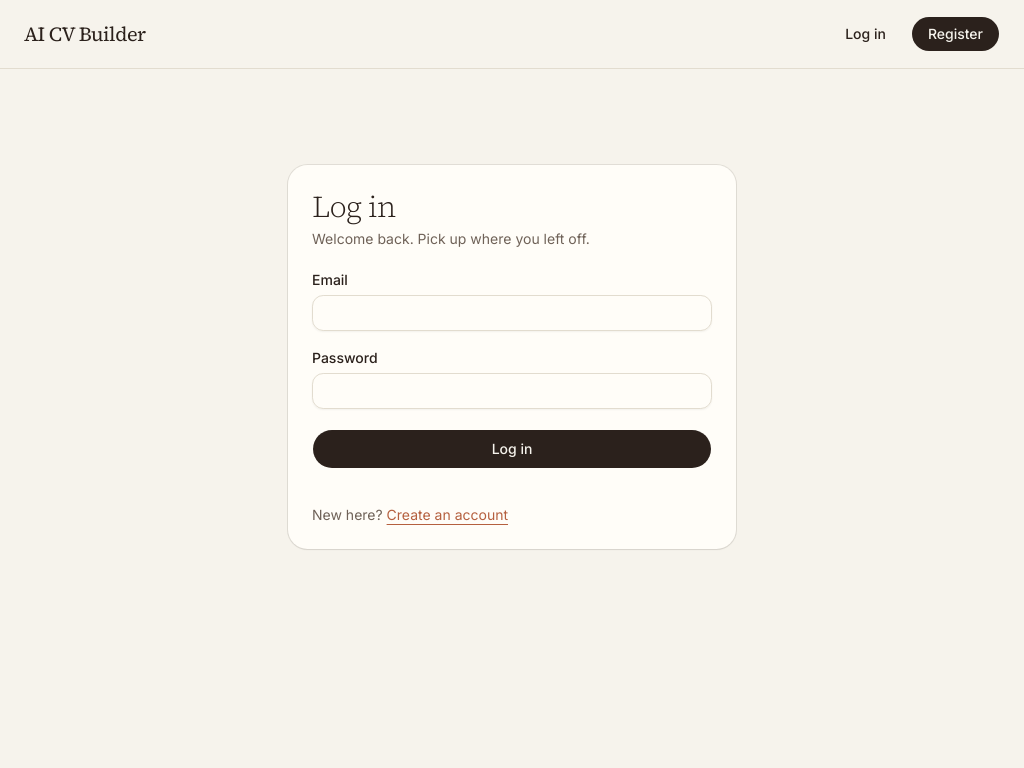
Test: AuthForm › logs in and lands on the dashboard
The width and height of the screenshot is (1024, 768).
Type "Jordan@Example.com" into the field labelled "Email" at (512, 313), box [312, 295, 712, 331]
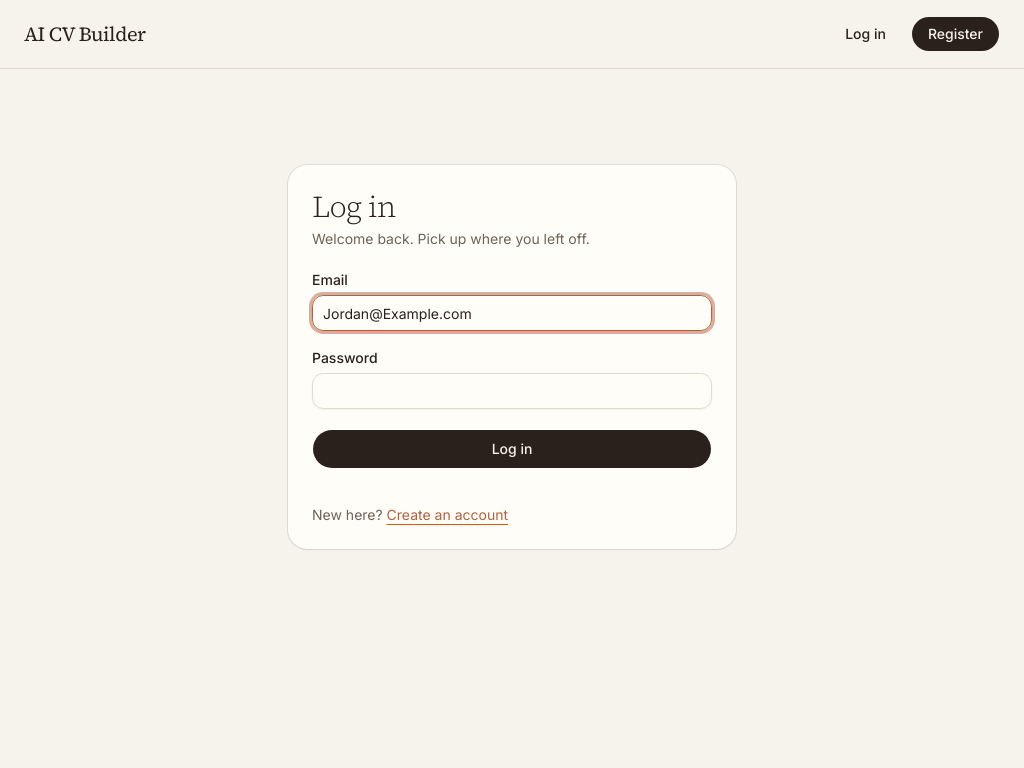
Type "secret" into the password field labelled "Password" at (512, 391), box [312, 373, 712, 409]
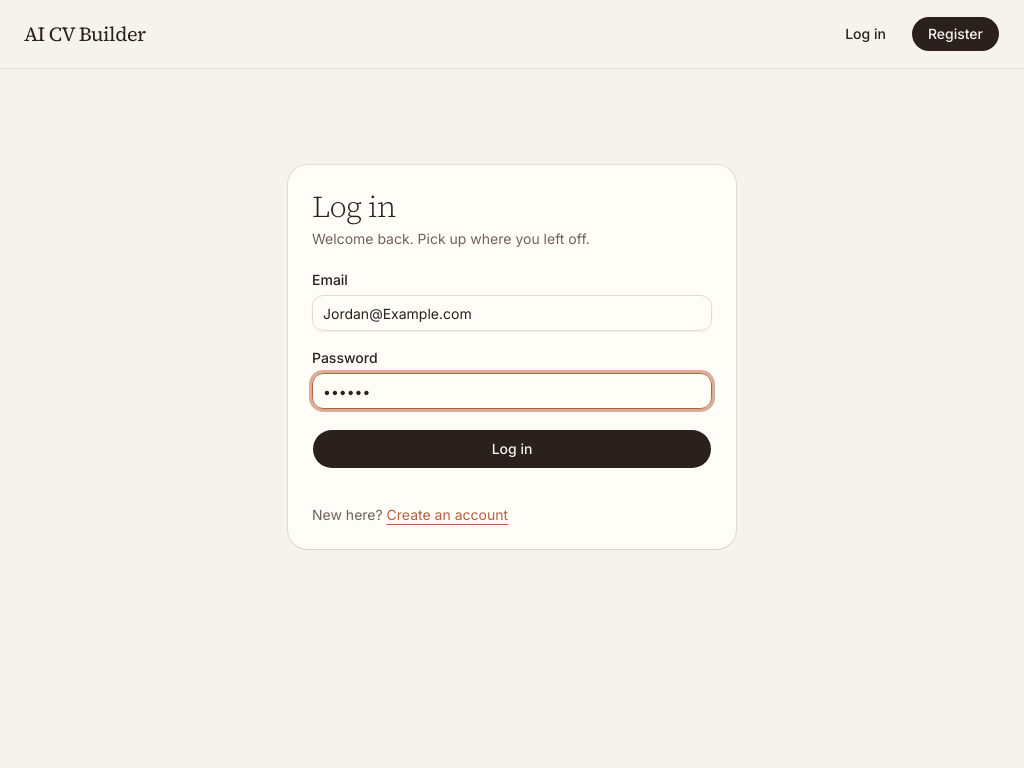
Click the button "Log in" at (512, 449), box [312, 429, 712, 469]
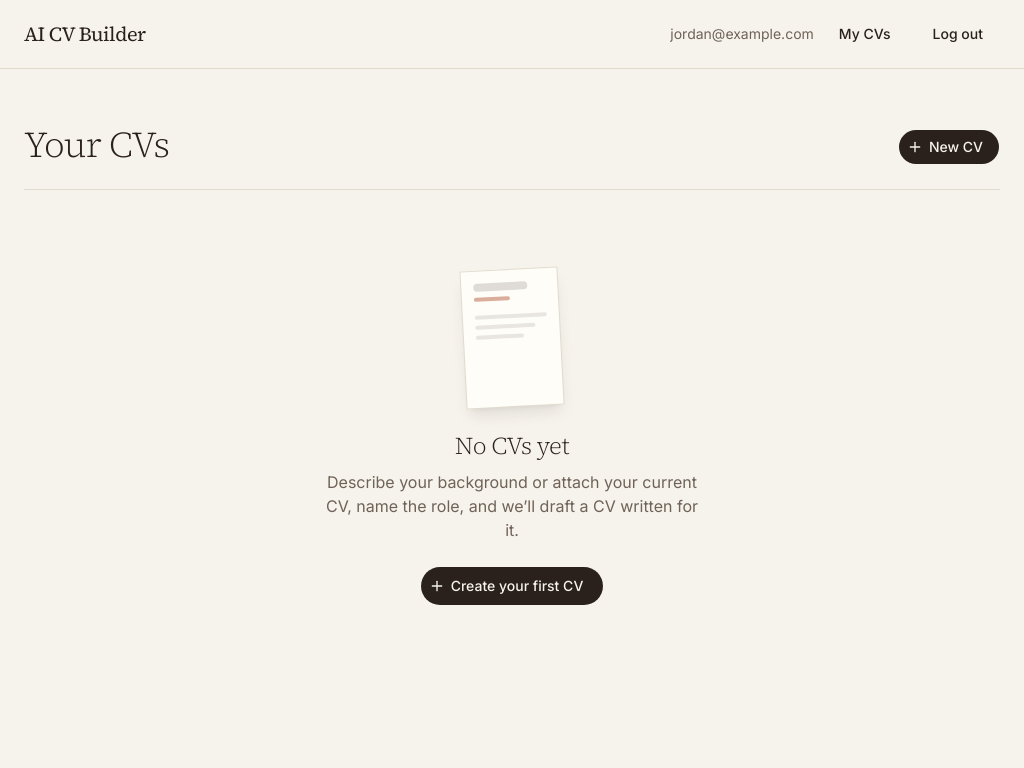
Check: the heading "Your CVs" is shown, box [24, 125, 169, 165]
Check: the heading "No CVs yet" is shown, box [455, 429, 569, 462]
Check: the text "jordan@example.com" is shown, box [670, 24, 814, 44]
